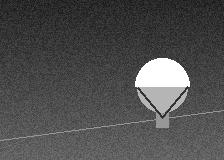helmet: (135, 58, 189, 117)
